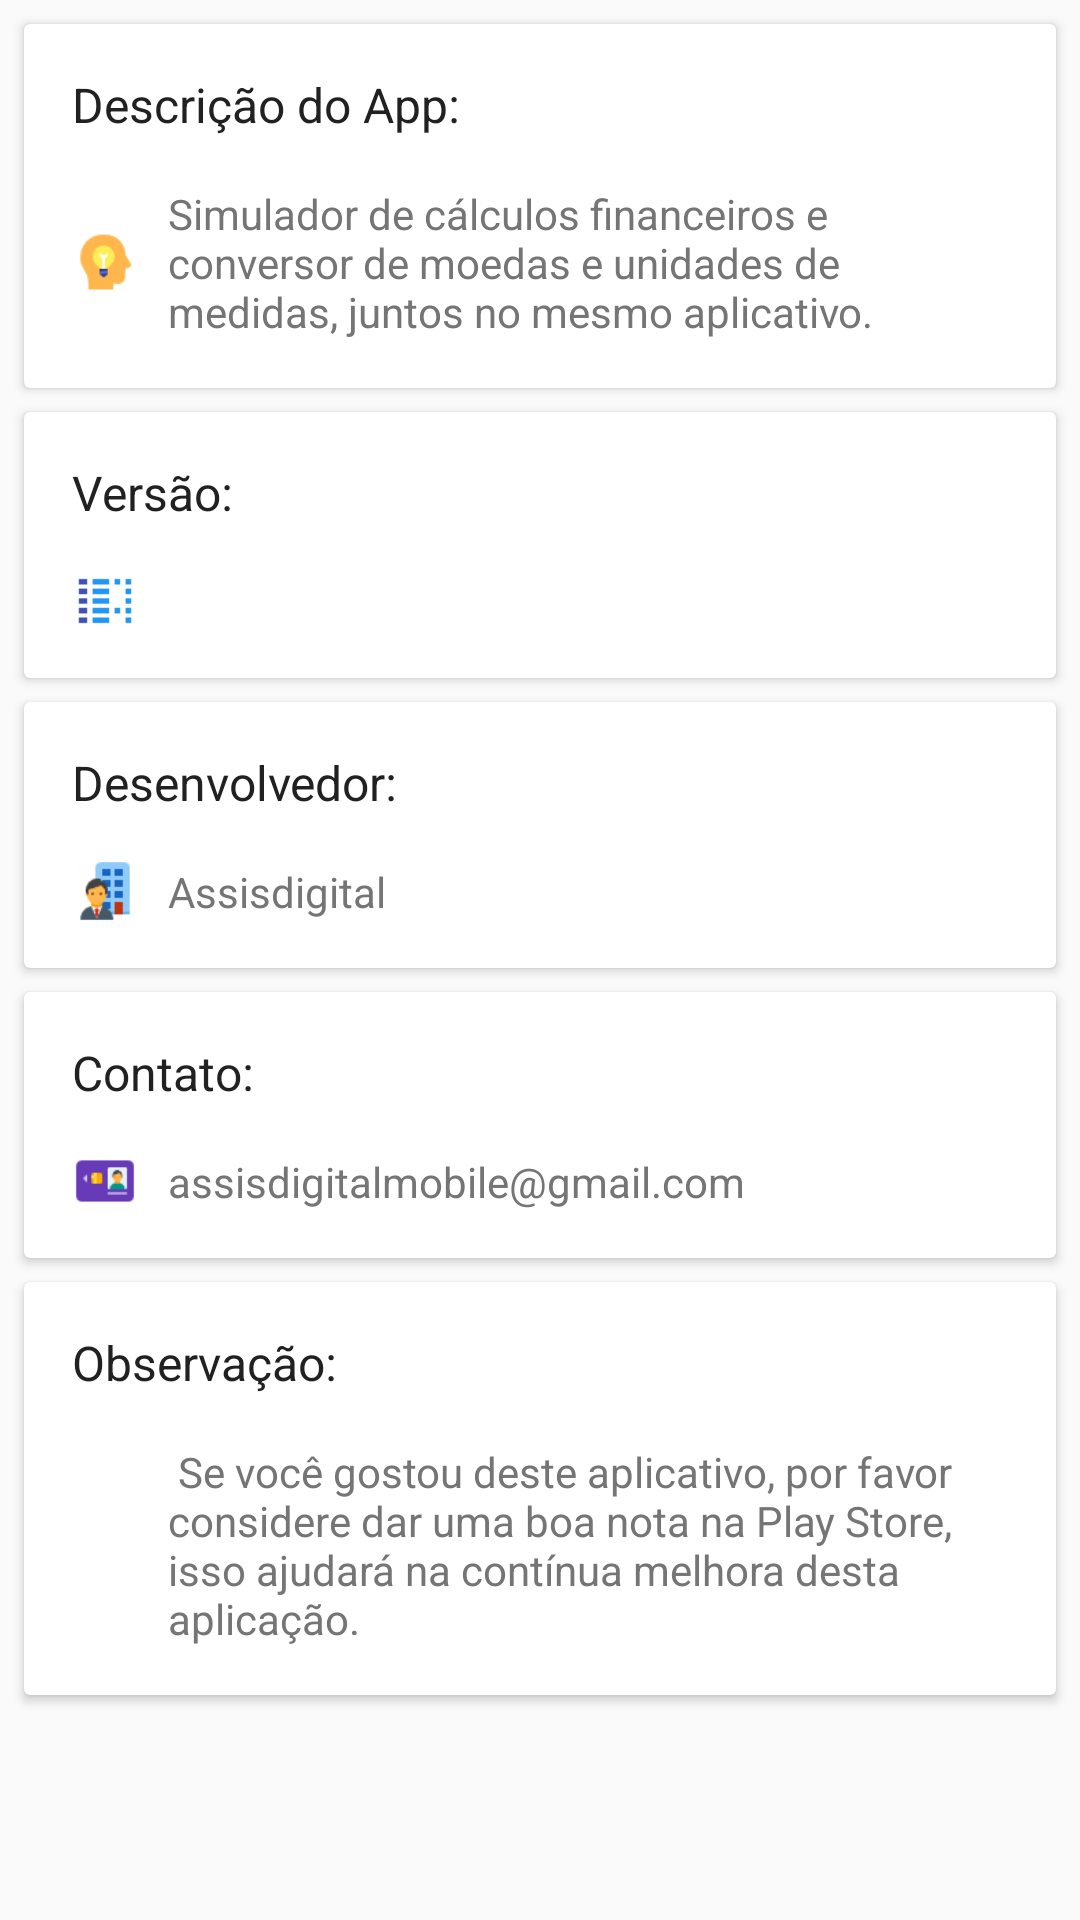

Screen size 1080px x 1920px. Icon name, then its box in pixels as [x1,y1,x2,y2]:
electronic identity card: [76,1160,134,1202]
innovation: [80,234,132,290]
permanent job: [80,862,130,920]
transaction list: [78,578,132,624]
